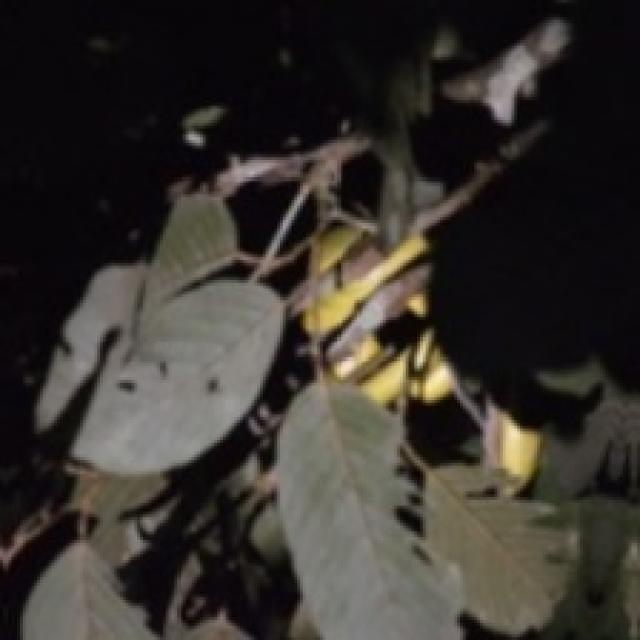red-tailed green ratsnake: (286, 142, 542, 494)
